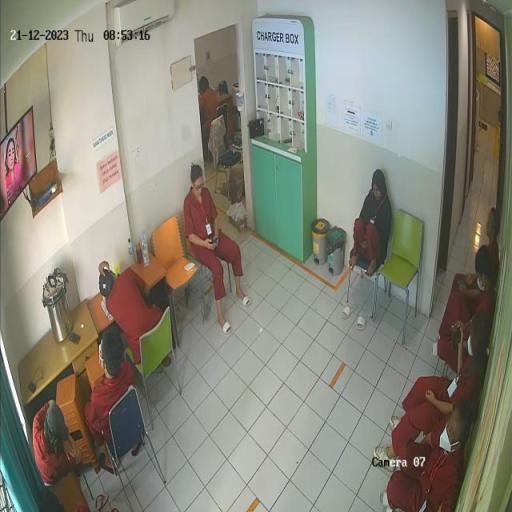person: (373, 295, 498, 467), (185, 162, 253, 334), (388, 401, 480, 512), (85, 323, 137, 471), (439, 246, 497, 374), (346, 168, 394, 321), (101, 261, 163, 365), (438, 208, 502, 308), (34, 401, 83, 489), (199, 77, 220, 162)
